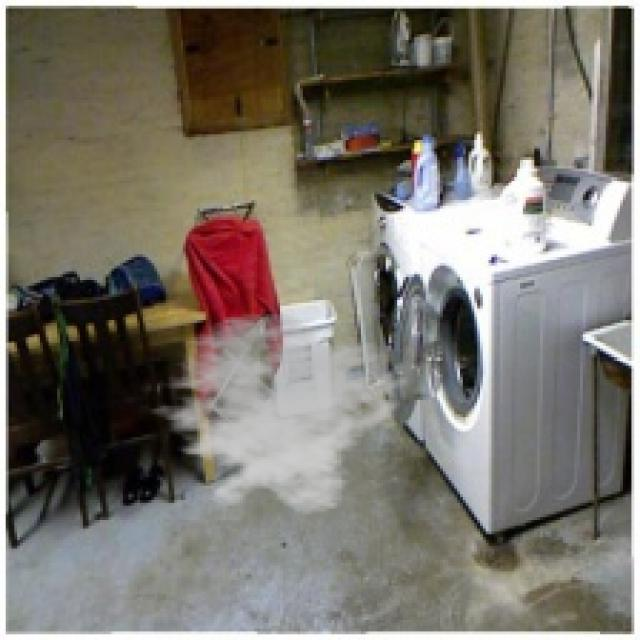smoke: (134, 312, 412, 517)
